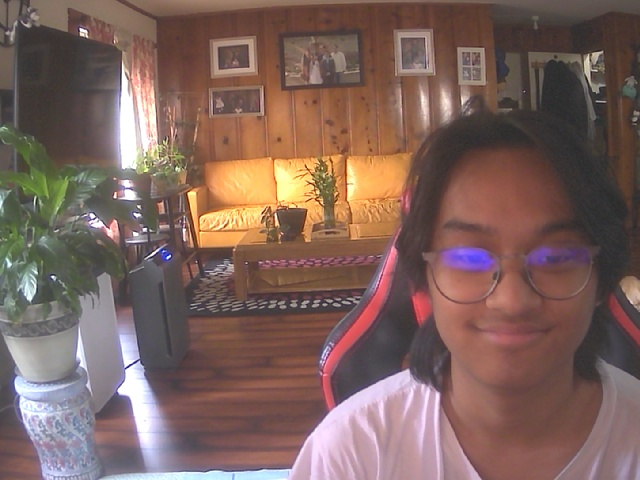happy: (415, 122, 616, 387)
